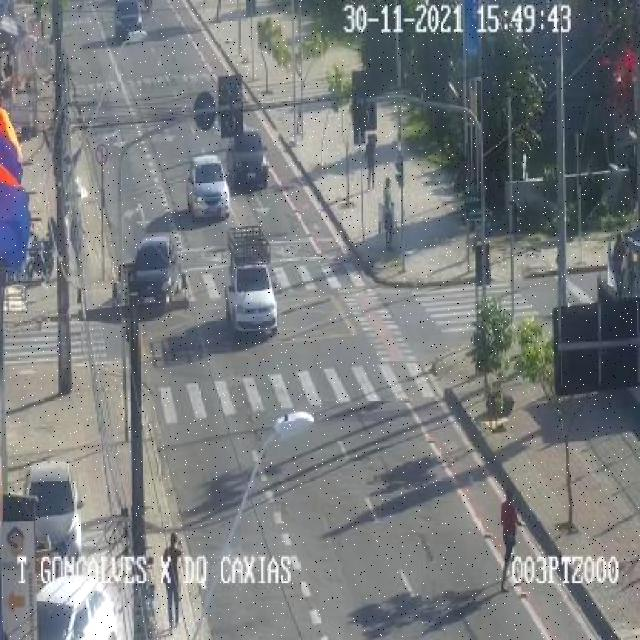car: (24, 462, 81, 572), (36, 574, 116, 640), (225, 262, 278, 333), (134, 235, 178, 303), (186, 154, 229, 216), (226, 128, 266, 188), (112, 0, 146, 40)
motorbike: (500, 490, 522, 592), (162, 532, 184, 634), (26, 232, 57, 286), (70, 208, 84, 274), (612, 233, 626, 298), (383, 176, 394, 250), (364, 133, 376, 190), (626, 248, 634, 298)
